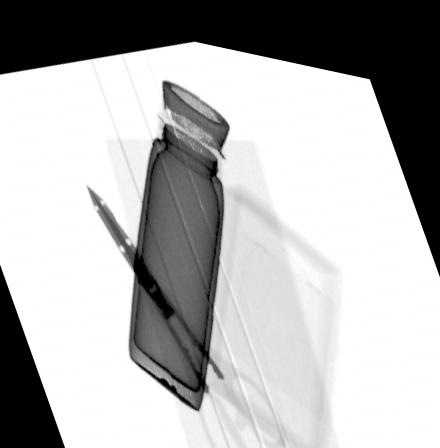Scissors: (85, 179, 286, 448)
